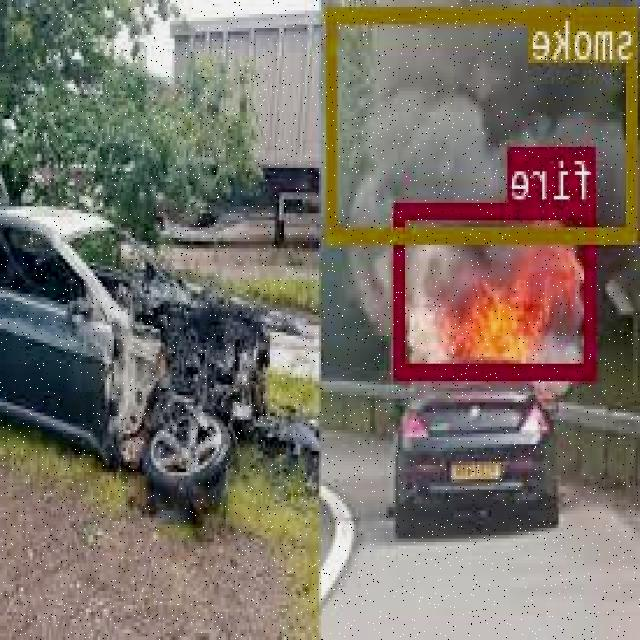fire: (396, 200, 597, 375)
smoke: (330, 3, 638, 238)
